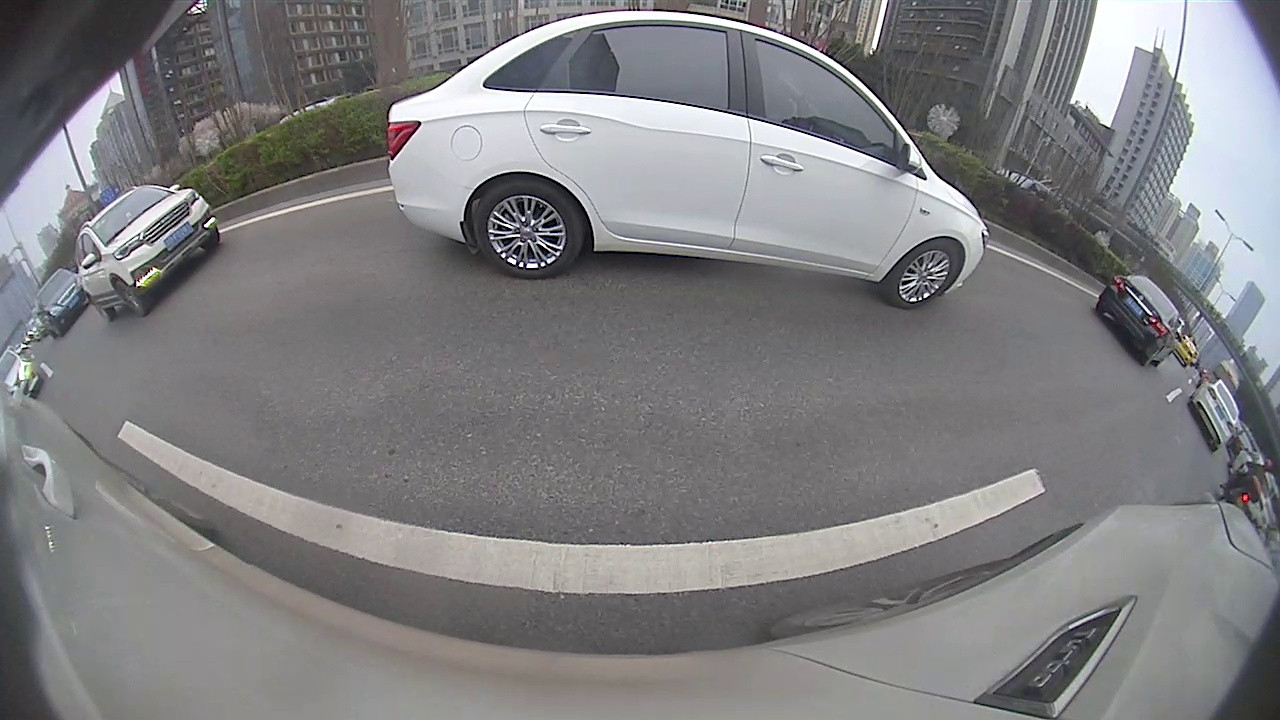car: (386, 9, 991, 310), (73, 182, 221, 323), (1095, 273, 1183, 368), (1186, 377, 1241, 452)
front: (890, 244, 966, 307), (111, 277, 147, 316)
rear: (476, 180, 584, 279)
